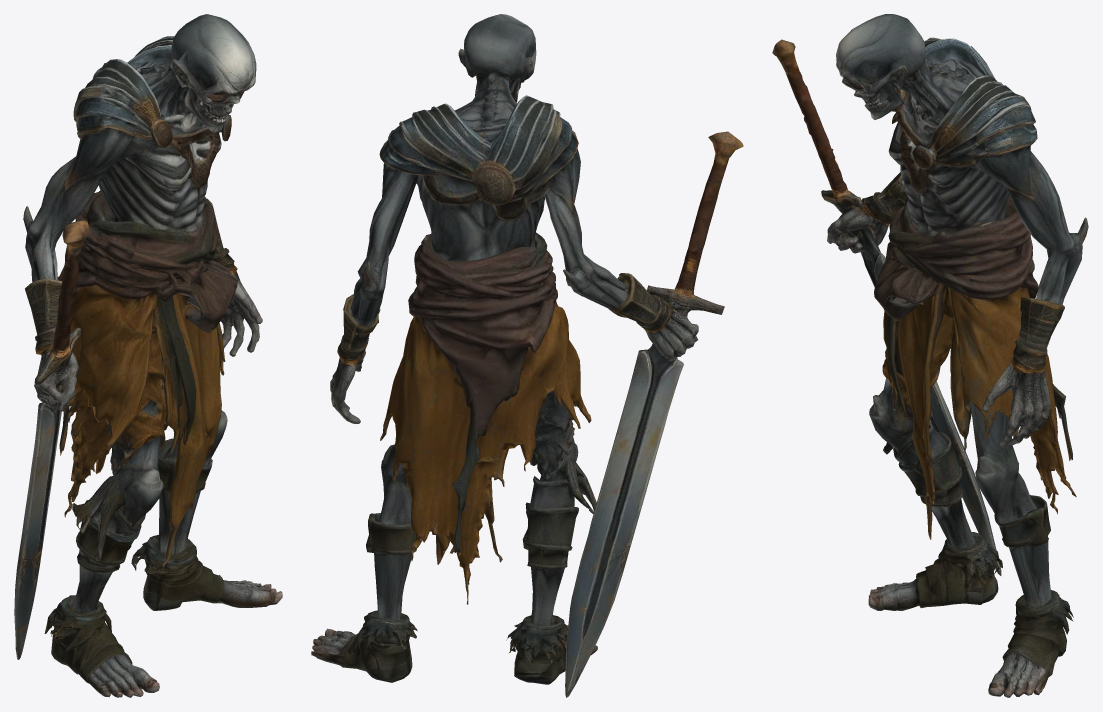
The model's file is hollow_one.glb.
3 views of the same model, side by side, from view 1: azimuth 30°, elevation 25°; view 2: azimuth 150°, elevation 25°; view 3: azimuth 270°, elevation 25° (orthographic). The views are drawn at different scales.
Bounding box in the file's own units: 1.02 × 1.9 × 0.8704.
Materials: 1 (1 with a texture image).
